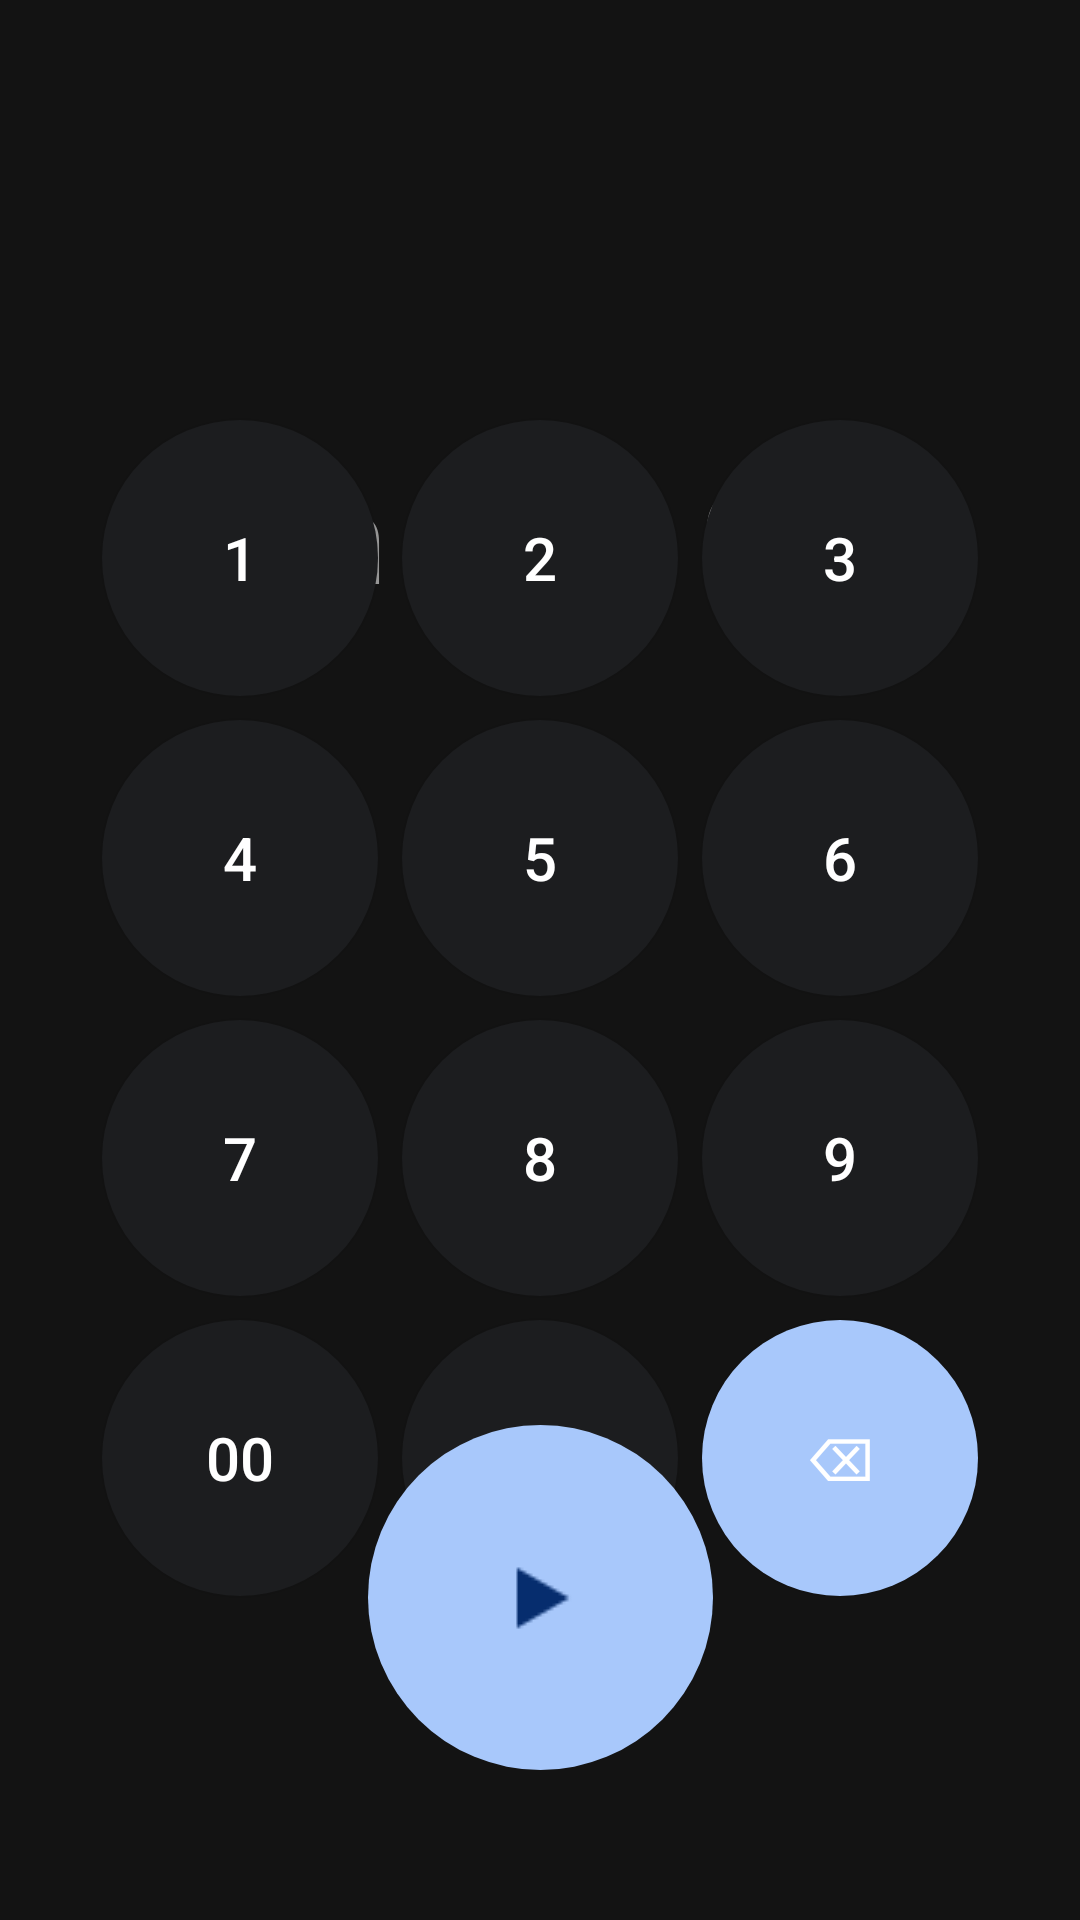

Where icons sit on this 1080*1920 app screen, as (x1, y1, x2, y2):
Start Button: (368, 1425, 713, 1770)
